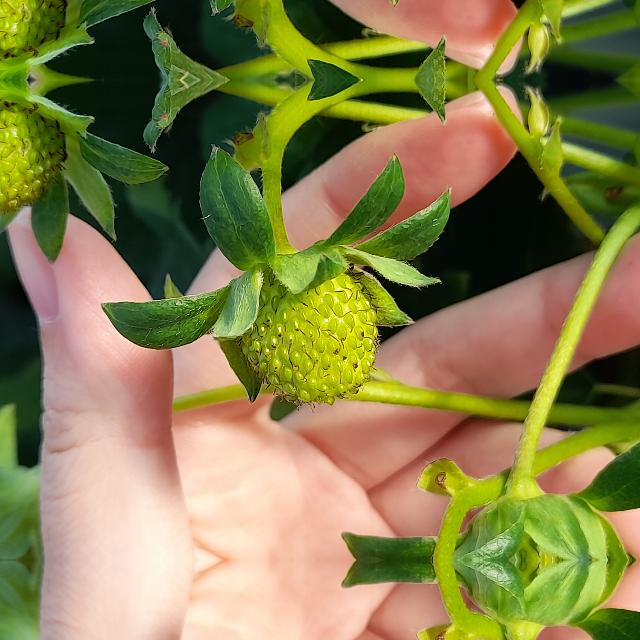Health_25: (235, 264, 383, 412), (0, 98, 72, 218), (0, 0, 72, 62)
